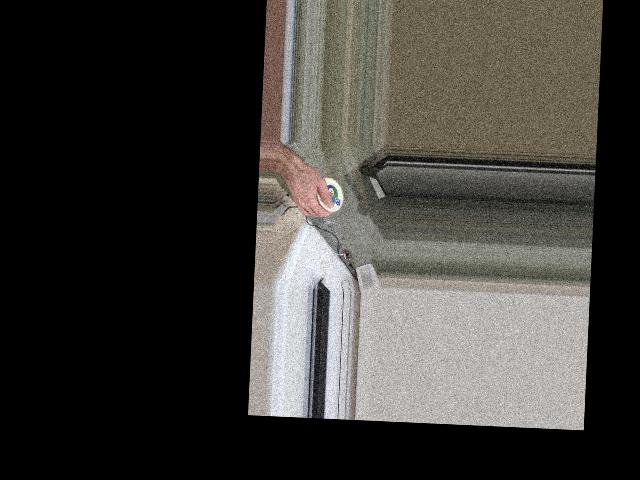cotage: (312, 176, 344, 212)
